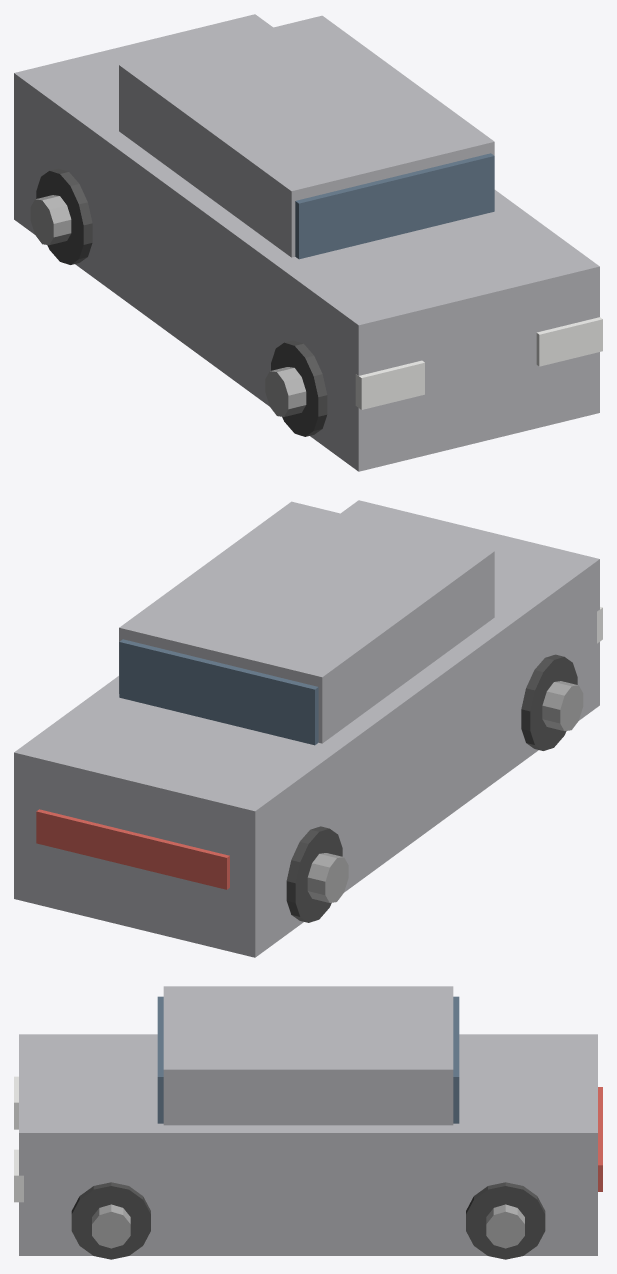
Rendered from family_suv.glb.
3 views of the same model, one above another, from view 1: azimuth 30°, elevation 25°; view 2: azimuth 150°, elevation 25°; view 3: azimuth 270°, elevation 25° (orthographic). The views are drawn at different scales.
Parts seen in each view (by area): view 1: body, cabin, glass_f, wheel_rr, wheel_fr, headlamp_l, headlamp_r, hub_-1_1, hub_-1_-1; view 2: body, cabin, glass_r, taillamp, wheel_fr, wheel_rr, hub_-1_1, hub_-1_-1; view 3: body, cabin, wheel_fl, wheel_rl, hub_1_1, hub_1_-1, glass_f, glass_r, taillamp, headlamp_r.
Boxes of the visible parts, x1,y1,x2,y2 form: body: [14, 14, 599, 471]; cabin: [119, 15, 494, 257]; glass_f: [295, 153, 494, 259]; wheel_rr: [36, 168, 92, 264]; wheel_fr: [271, 340, 327, 436]; headlamp_l: [355, 360, 424, 409]; headlamp_r: [536, 317, 602, 366]; hub_-1_1: [265, 367, 306, 416]; hub_-1_-1: [30, 195, 71, 245]; body: [14, 500, 599, 957]; cabin: [119, 501, 494, 743]; glass_r: [119, 639, 318, 745]; taillamp: [36, 809, 229, 889]; wheel_fr: [521, 654, 577, 750]; wheel_rr: [286, 826, 342, 922]; hub_-1_1: [542, 681, 583, 731]; hub_-1_-1: [307, 853, 348, 902]; body: [19, 1034, 597, 1255]; cabin: [163, 986, 453, 1125]; wheel_fl: [71, 1182, 150, 1259]; wheel_rl: [466, 1182, 545, 1259]; hub_1_1: [92, 1204, 130, 1248]; hub_1_-1: [486, 1204, 524, 1248]; glass_f: [157, 996, 163, 1123]; glass_r: [453, 996, 459, 1123]; taillamp: [598, 1087, 602, 1191]; headlamp_r: [14, 1149, 23, 1202].
Bounding box in the file's own units: 2.32 × 1.6 × 4.78.
